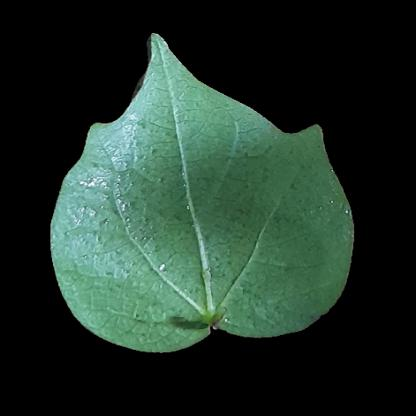healthy: (115, 140, 307, 317), (145, 74, 238, 142)
